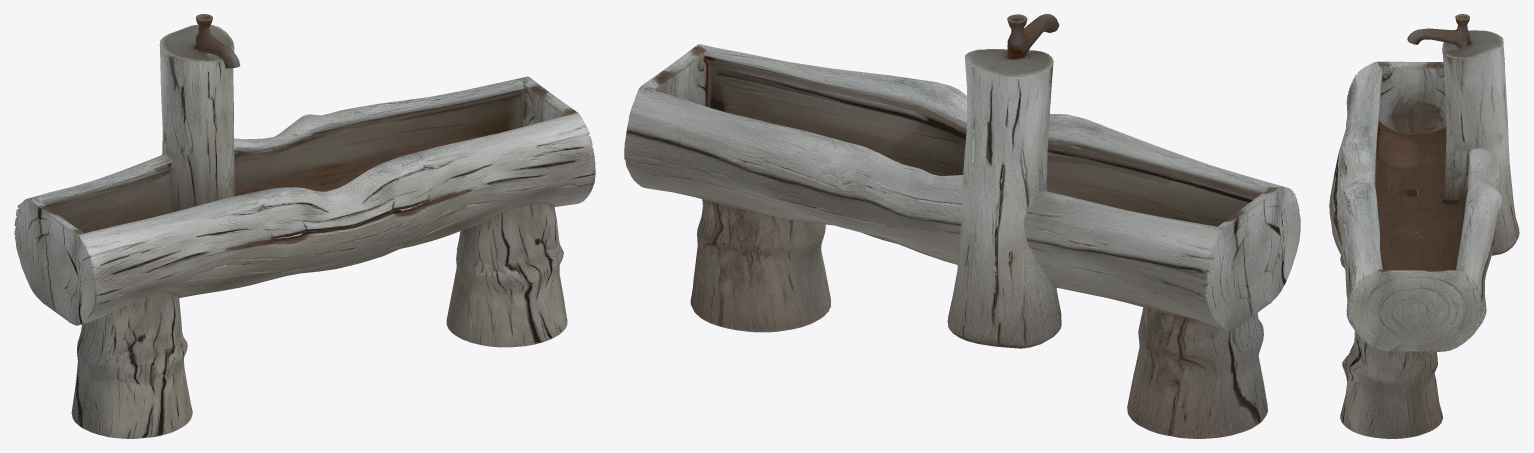
File: log_fountain.glb
3 views of the same model, side by side, from view 1: azimuth 30°, elevation 25°; view 2: azimuth 150°, elevation 25°; view 3: azimuth 270°, elevation 25° (orthographic). The views are drawn at different scales.
Size of the model in its own units: 1.9 by 1.23 by 0.7272.
Materials: 1 (1 with a texture image).
